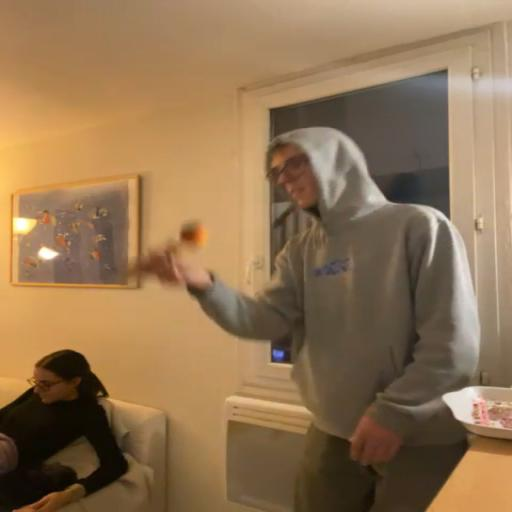kendama_ball: (179, 219, 209, 250)
